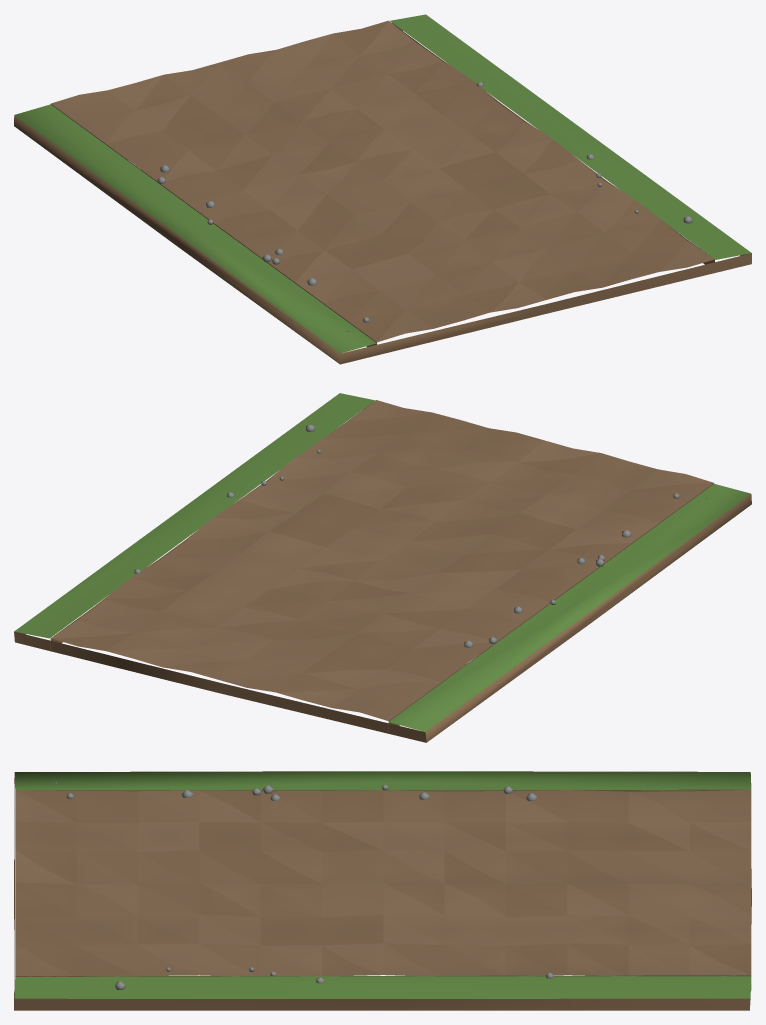
File: dirt_straight.glb
3 renders of one model, top to bottom at view 1: azimuth 30°, elevation 25°; view 2: azimuth 150°, elevation 25°; view 3: azimuth 270°, elevation 25°, orthographic. The views are drawn at different scales.
Visible parts, largest first — view 1: Body.006; view 2: Body.006; view 3: Body.006.
Part boxes in pixels (x1,y1,x2,y2): Body.006: (14, 14, 751, 364); Body.006: (14, 393, 751, 742); Body.006: (14, 771, 751, 1010).
Size of the model in its own units: 7.3 by 0.315 by 10.
